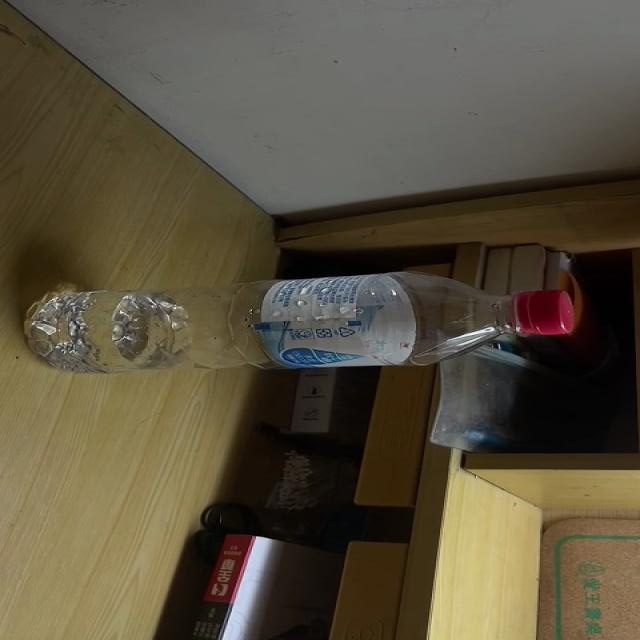Water: (24, 272, 579, 376)
